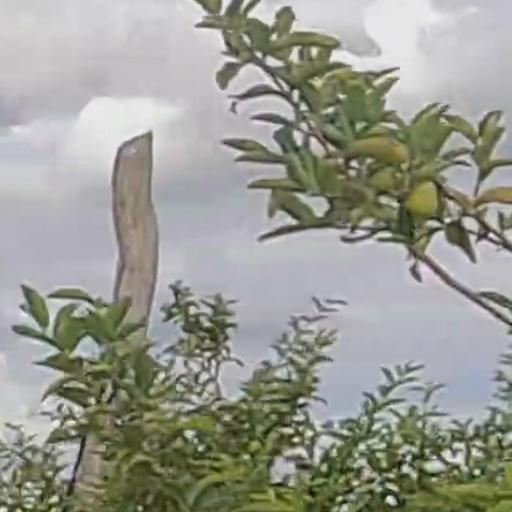acerola: (406, 188, 438, 215)
